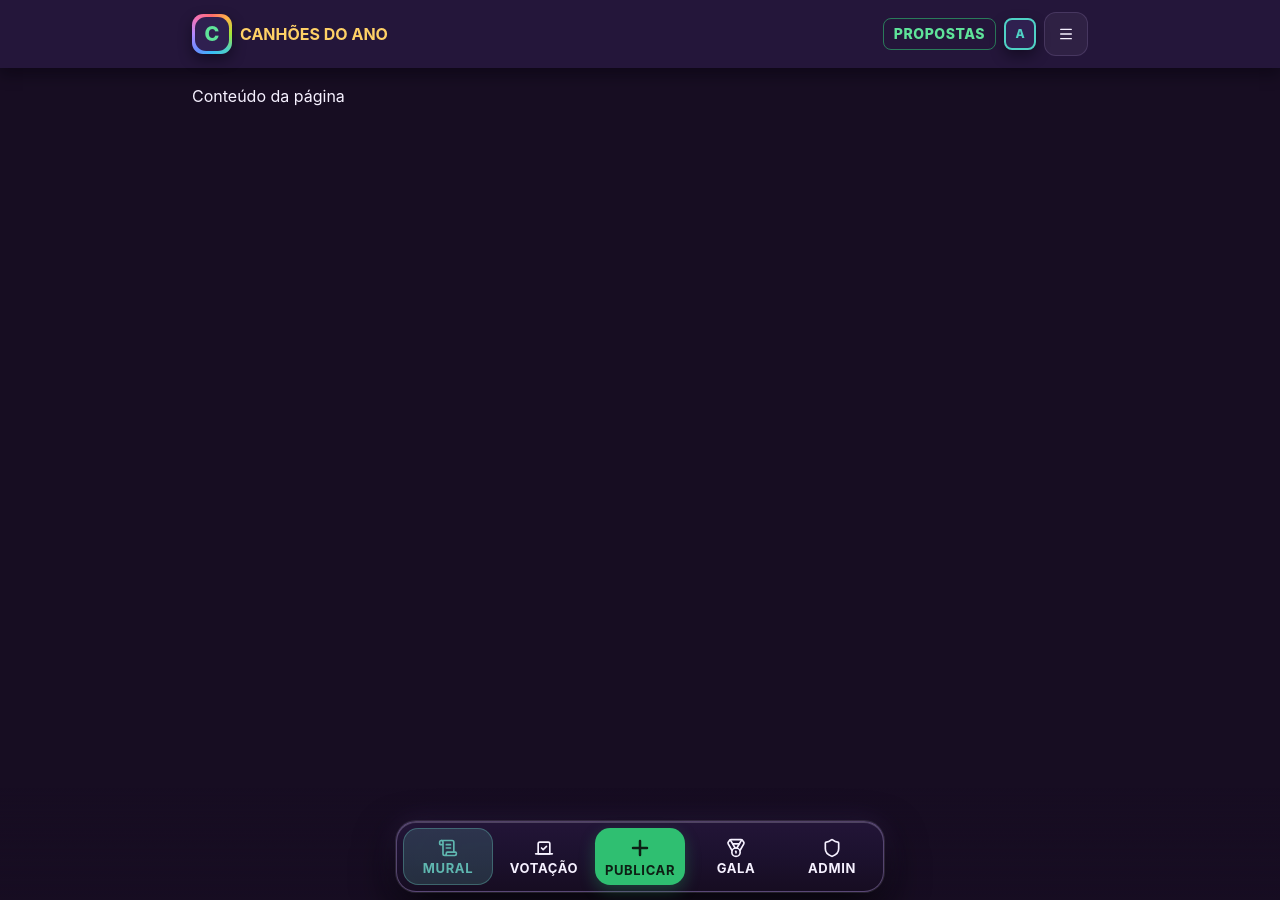
Test: CanhoesChrome › lets admins open the menu from the header to change their colour or log out
Click the button named "Abrir mais opções": (1066, 34) [1044,12,1088,56]
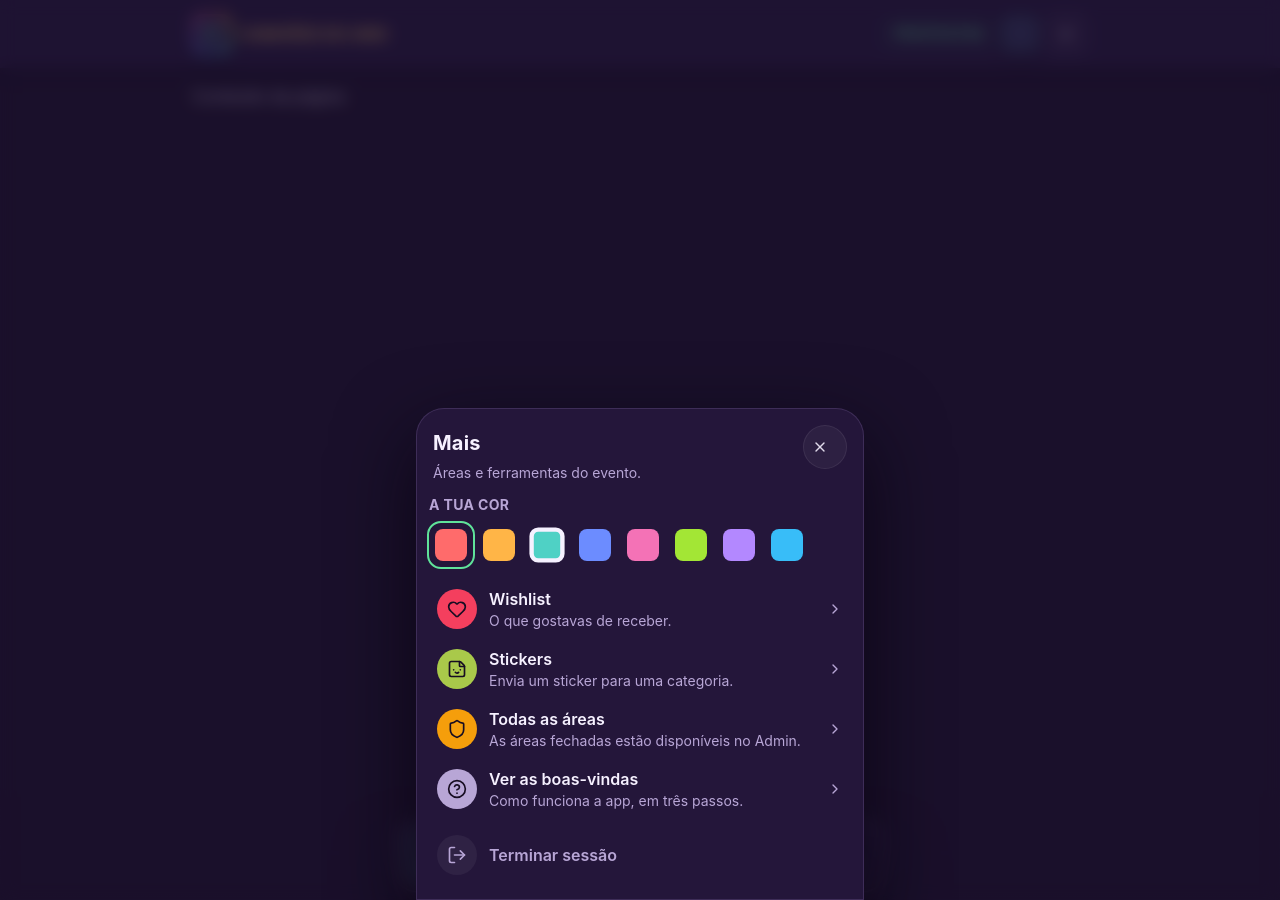
Expected: the radio button named "Turquesa" is checked, [529,527,565,563]
Expected: the button "Terminar sessão" is shown, [425,827,855,883]
